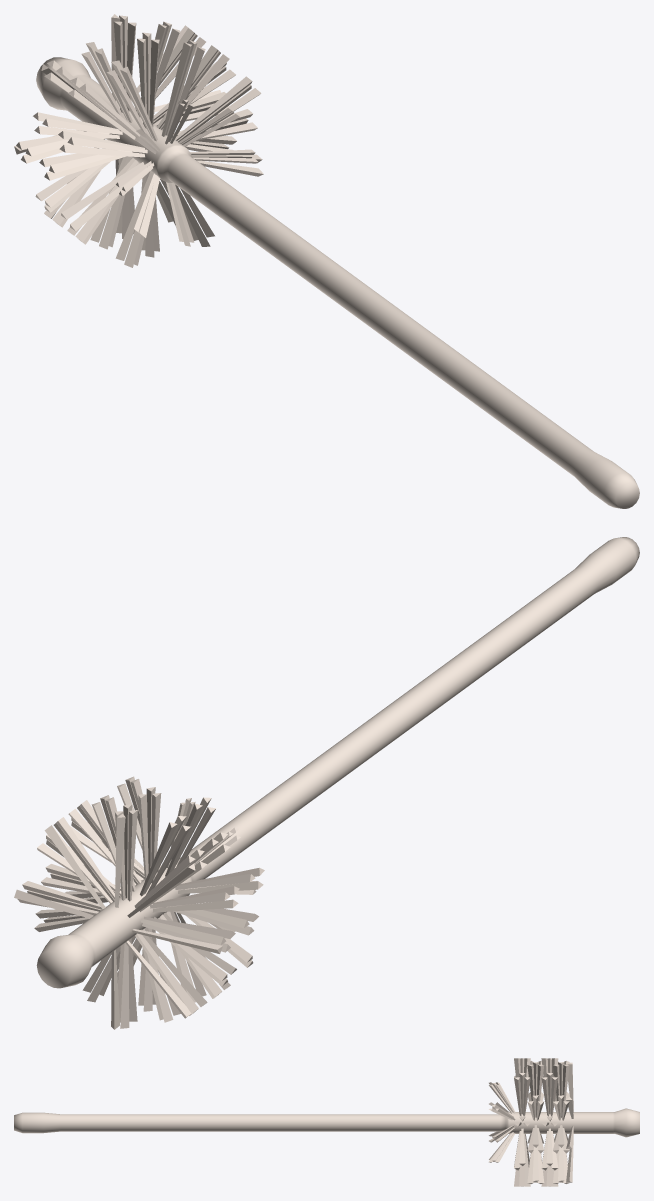
3 renders of one model, top to bottom at view 1: azimuth 30°, elevation 25°; view 2: azimuth 150°, elevation 25°; view 3: azimuth 270°, elevation 25°, orthographic. The views are drawn at different scales.
Parts seen in each view (by area): view 1: Cylinder_221; view 2: Cylinder_221; view 3: Cylinder_221.
Part boxes in pixels (x1=…): Cylinder_221: x1=14, y1=14, x2=639, y2=508; Cylinder_221: x1=14, y1=537, x2=639, y2=1029; Cylinder_221: x1=14, y1=1058, x2=639, y2=1186.
Bounding box in the file's own units: 0.0927 × 0.0924 × 0.4518.
